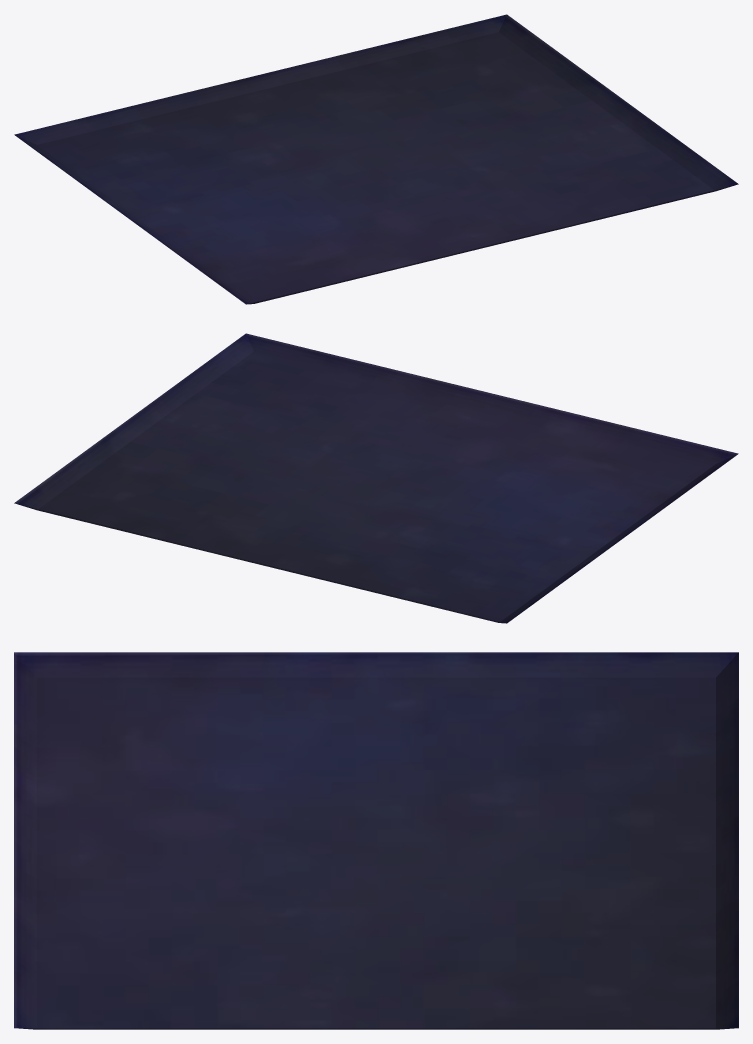
The model's file is tray.glb.
3 renders of one model, top to bottom at view 1: azimuth 30°, elevation 25°; view 2: azimuth 150°, elevation 25°; view 3: azimuth 270°, elevation 25°, orthographic. The views are drawn at different scales.
Parts seen in each view (by area): view 1: Plane; view 2: Plane; view 3: Plane.
Boxes of the visible parts, x1,y1,x2,y2 form: Plane: (14,14,738,304); Plane: (14,333,738,623); Plane: (14,652,738,1029).
Size of the model in its own units: 0.3369 by 0.00563 by 0.2745.
Materials: 1 (1 with a texture image).
